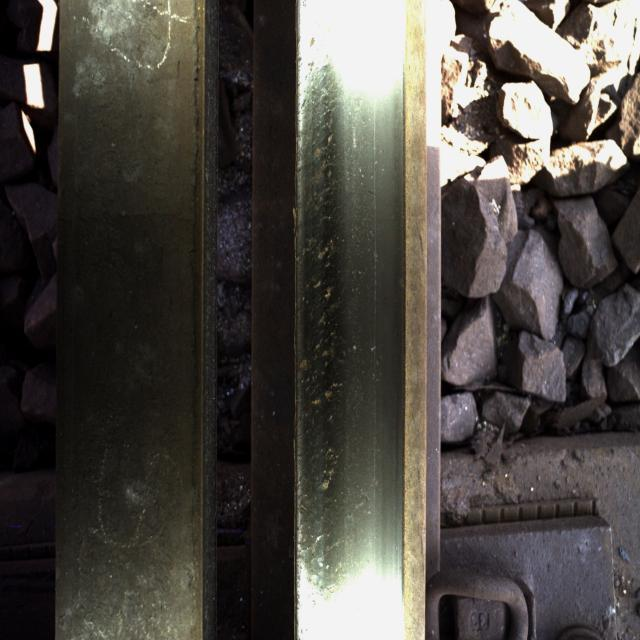crack: (300, 0, 351, 612)
